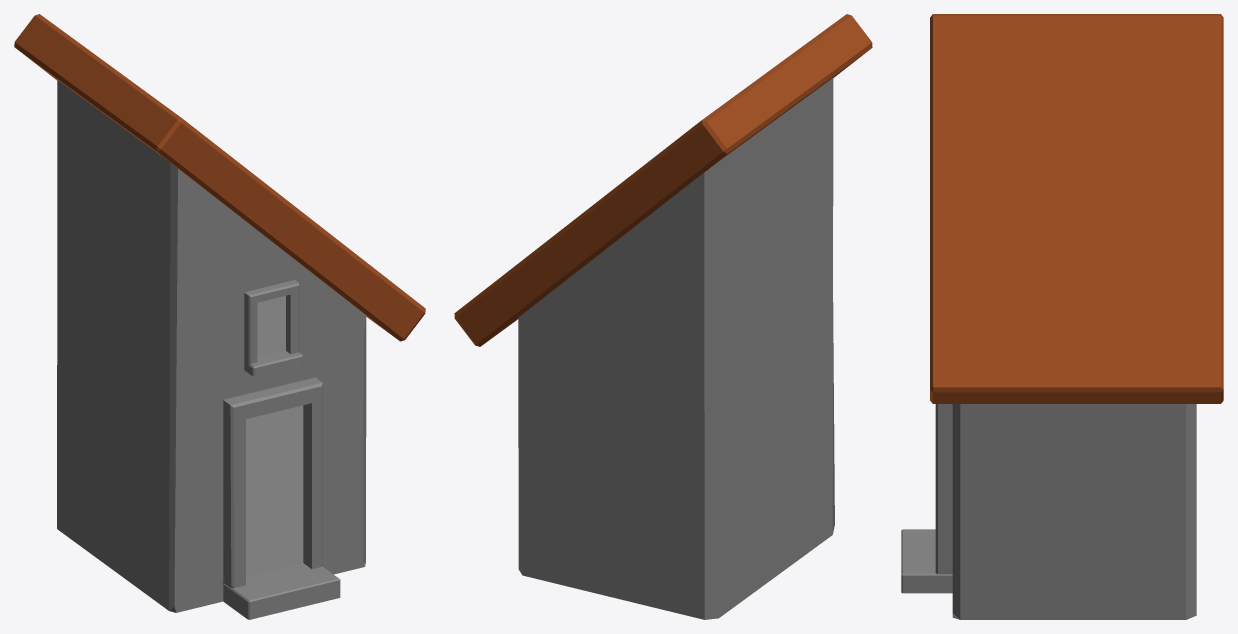
Rendered from Building02.fbx.
3 renders of one model, left to right at view 1: azimuth 30°, elevation 25°; view 2: azimuth 150°, elevation 25°; view 3: azimuth 270°, elevation 25°, orthographic.
Parts seen in each view (by area): view 1: pCube21; view 2: pCube21; view 3: pCube21.
Part boxes in pixels (<box>): pCube21: <box>14,14,425,619</box>; pCube21: <box>454,14,872,619</box>; pCube21: <box>901,14,1223,619</box>.
Size of the model in its own units: 1.07 by 1.92 by 1.11.
